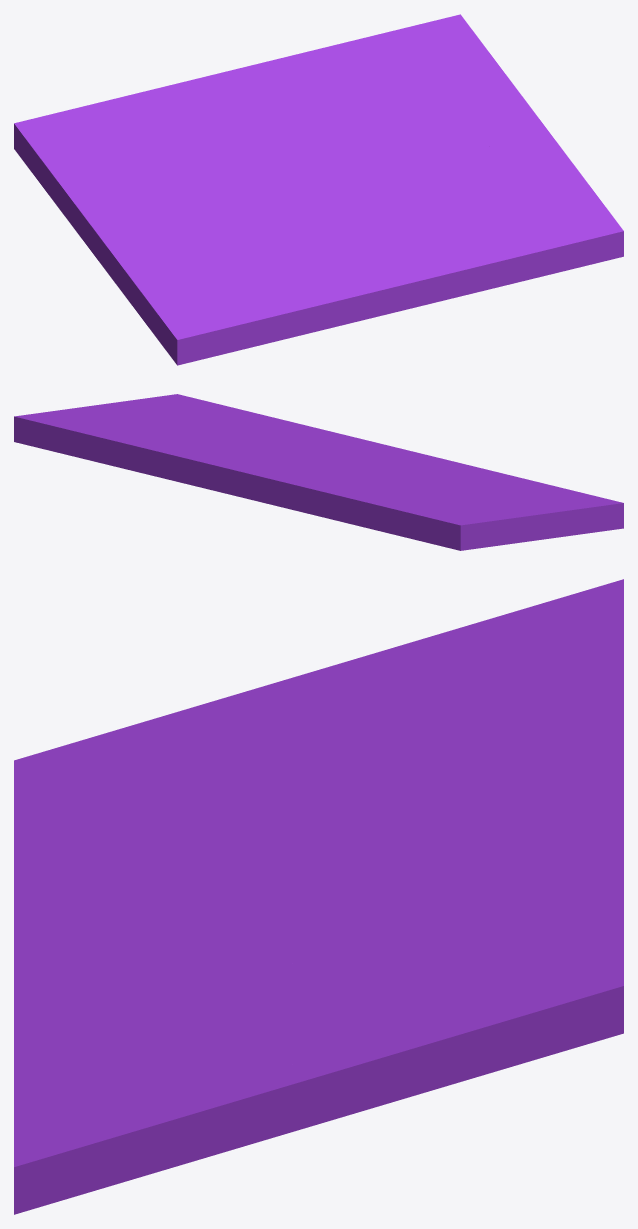
The model's file is Window_156_chunks.fbx.
3 renders of one model, top to bottom at view 1: azimuth 30°, elevation 25°; view 2: azimuth 150°, elevation 25°; view 3: azimuth 270°, elevation 25°, orthographic. The views are drawn at different scales.
Visible parts, largest first — view 1: Window_156_0, Window_156_2, Window_156_3, Window_156_1; view 2: Window_156_3, Window_156_0, Window_156_1, Window_156_2; view 3: Window_156_0, Window_156_3, Window_156_2, Window_156_1.
Part boxes in pixels (box(x1,y1,x2,y2)): Window_156_0: box(26, 139, 365, 365); Window_156_2: box(330, 132, 623, 323); Window_156_3: box(225, 14, 548, 185); Window_156_1: box(14, 72, 289, 180); Window_156_3: box(14, 404, 325, 490); Window_156_0: box(321, 457, 623, 547); Window_156_1: box(213, 465, 484, 550); Window_156_2: box(103, 394, 434, 457); Window_156_0: box(14, 593, 577, 932); Window_156_3: box(292, 771, 623, 1116); Window_156_2: box(14, 885, 343, 1214); Window_156_1: box(361, 579, 623, 844).
Size of the model in its own units: 1838 by 482 by 1165.
